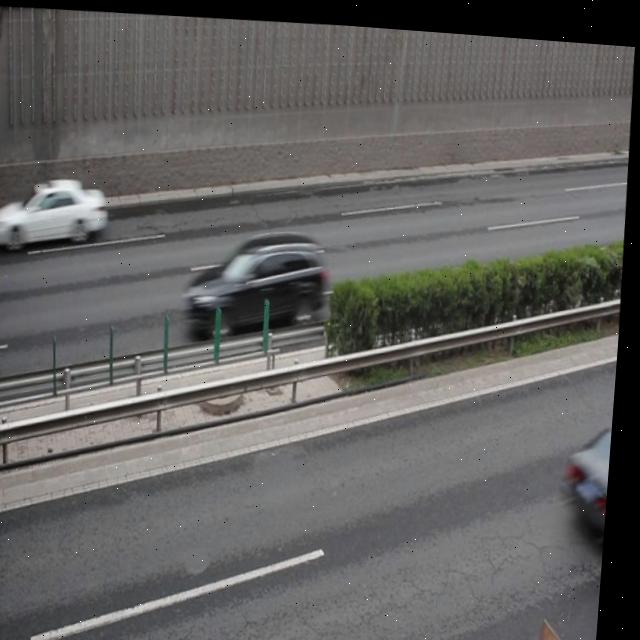car: (186, 219, 335, 334), (0, 170, 112, 248), (571, 406, 618, 531)
